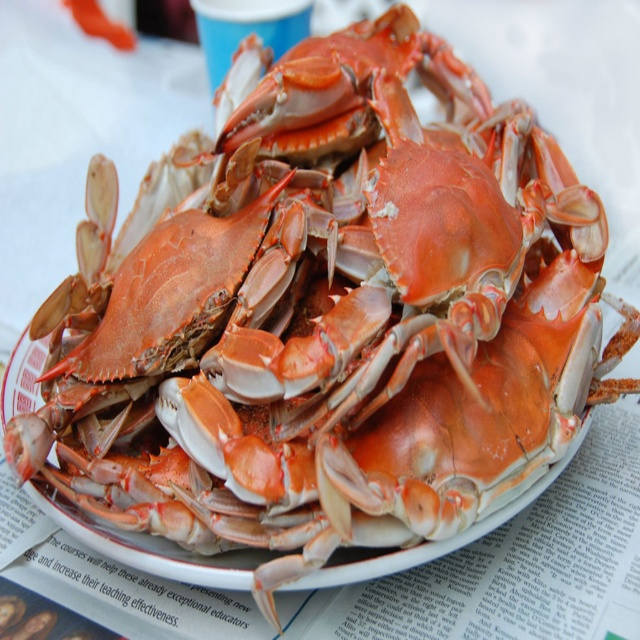Crab: (3, 3, 640, 636)
